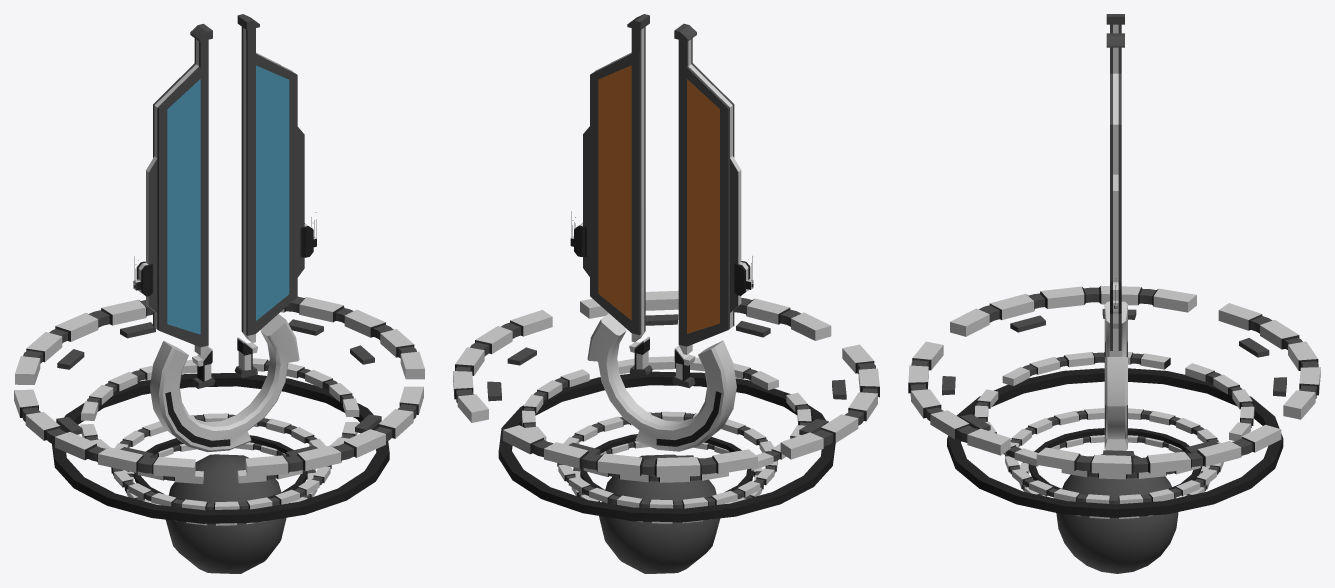
Rendered from tower_support_ungrade1_asset.fbx.
3 views of the same model, side by side, from view 1: azimuth 30°, elevation 25°; view 2: azimuth 150°, elevation 25°; view 3: azimuth 270°, elevation 25° (orthographic).
Visible parts, largest first — view 1: support_pillar, support_ring1, support_ring6, support_ring3, support_ring4, support_ring2, support_ring5; view 2: support_pillar, support_ring1, support_ring6, support_ring3, support_ring4, support_ring2, support_ring5; view 3: support_ring1, support_pillar, support_ring6, support_ring3, support_ring4, support_ring2, support_ring5.
Boxes of the visible parts, x1,y1,x2,y2 form: support_pillar: [133, 14, 316, 573]; support_ring1: [14, 296, 424, 478]; support_ring6: [52, 373, 389, 523]; support_ring3: [80, 358, 359, 483]; support_ring4: [111, 413, 331, 510]; support_ring2: [56, 319, 381, 457]; support_ring5: [124, 442, 317, 525]; support_pillar: [570, 14, 753, 573]; support_ring1: [453, 290, 879, 477]; support_ring6: [498, 371, 835, 522]; support_ring3: [522, 356, 811, 482]; support_ring4: [557, 411, 777, 508]; support_ring2: [487, 314, 846, 457]; support_ring5: [571, 441, 763, 523]; support_ring1: [908, 285, 1320, 474]; support_pillar: [1056, 14, 1178, 573]; support_ring6: [947, 368, 1283, 517]; support_ring3: [974, 352, 1254, 479]; support_ring4: [1005, 408, 1223, 504]; support_ring2: [942, 309, 1286, 457]; support_ring5: [1019, 435, 1209, 518].
Size of the model in its own units: 120 by 170 by 117.
